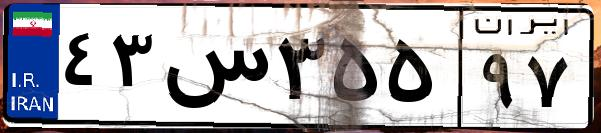3: (270, 28, 330, 110), (110, 28, 158, 98)
4: (57, 26, 110, 100)
5: (385, 28, 445, 110), (330, 28, 385, 110)
7: (525, 38, 570, 115)
9: (475, 38, 525, 113)
س: (158, 20, 270, 120)
